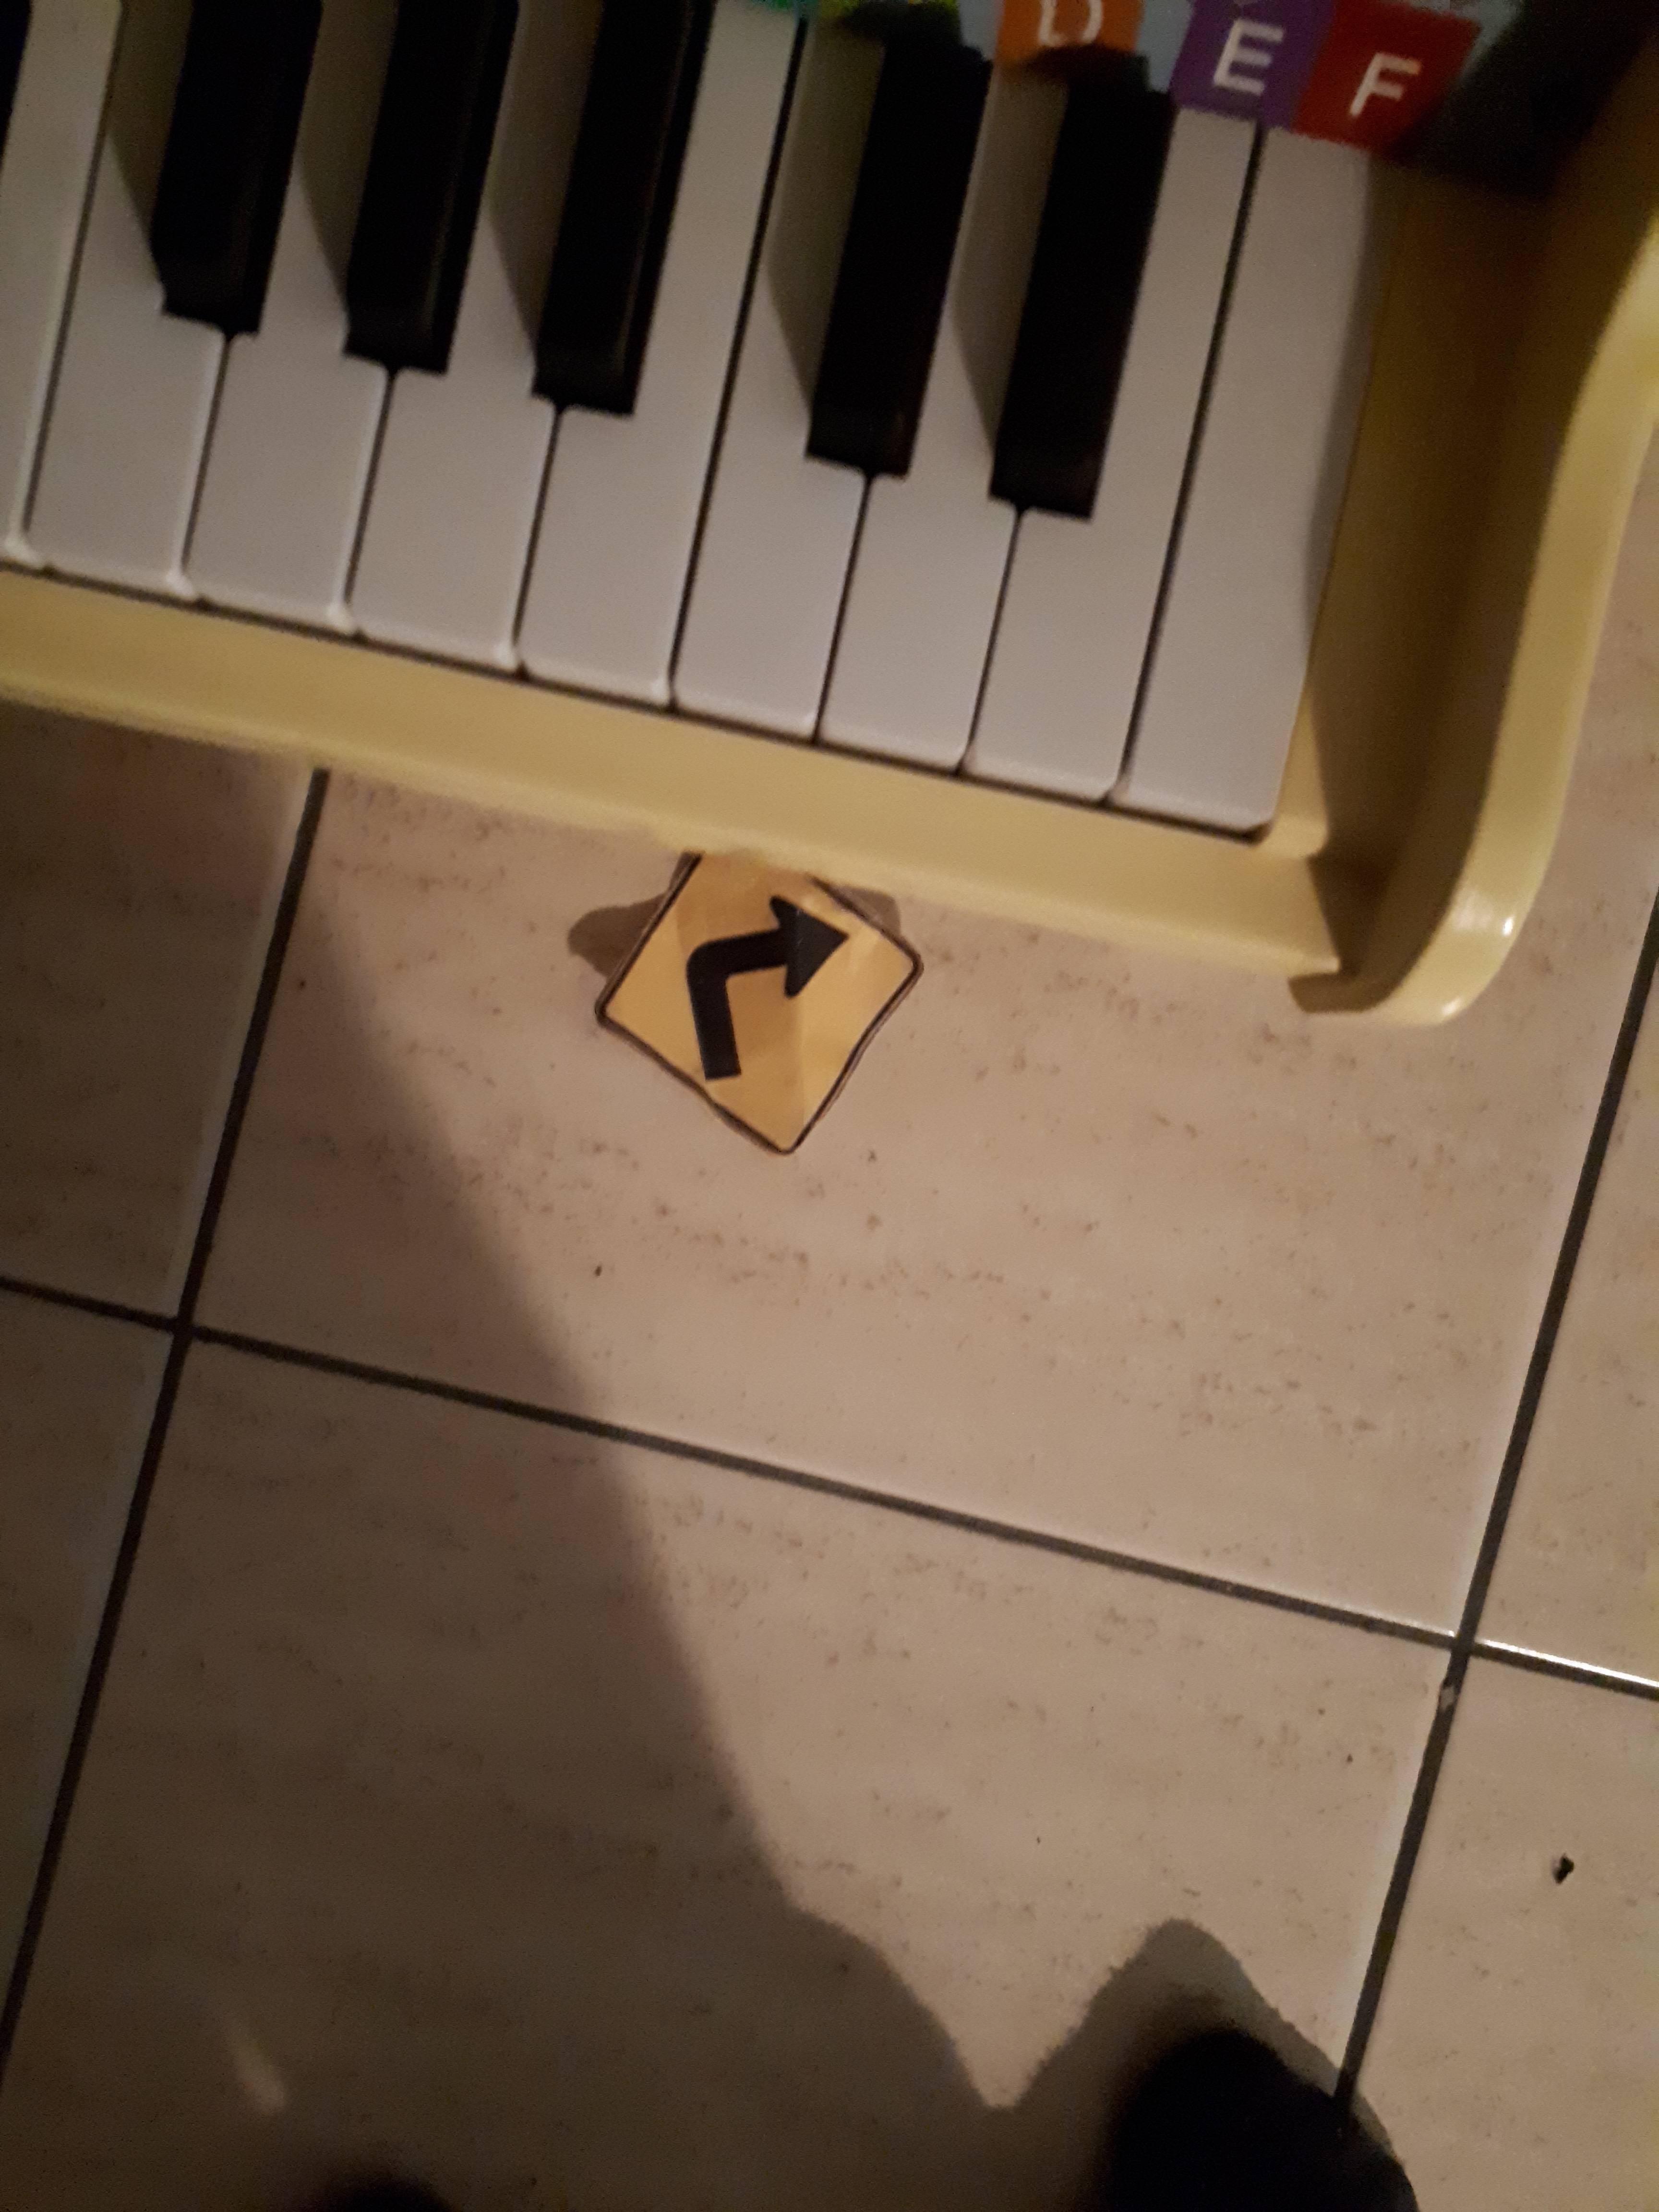right: (514, 887, 1054, 1150), (610, 827, 936, 1073), (671, 805, 906, 1103)
